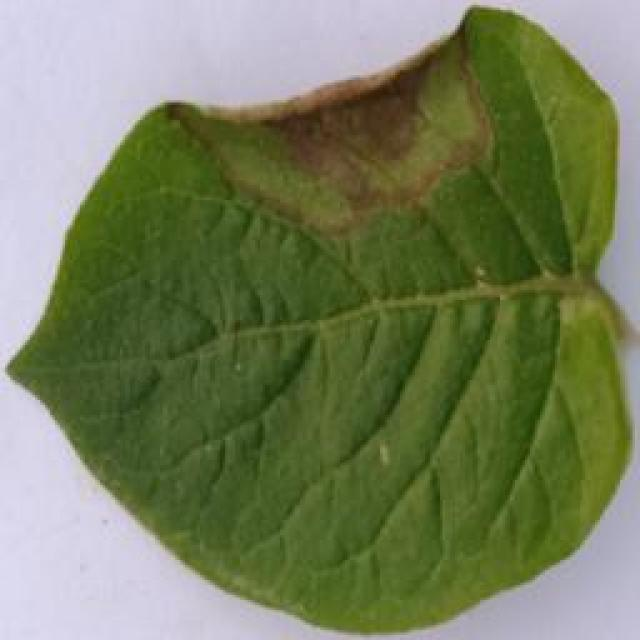Potato_Late_Blight: (6, 7, 623, 630)
